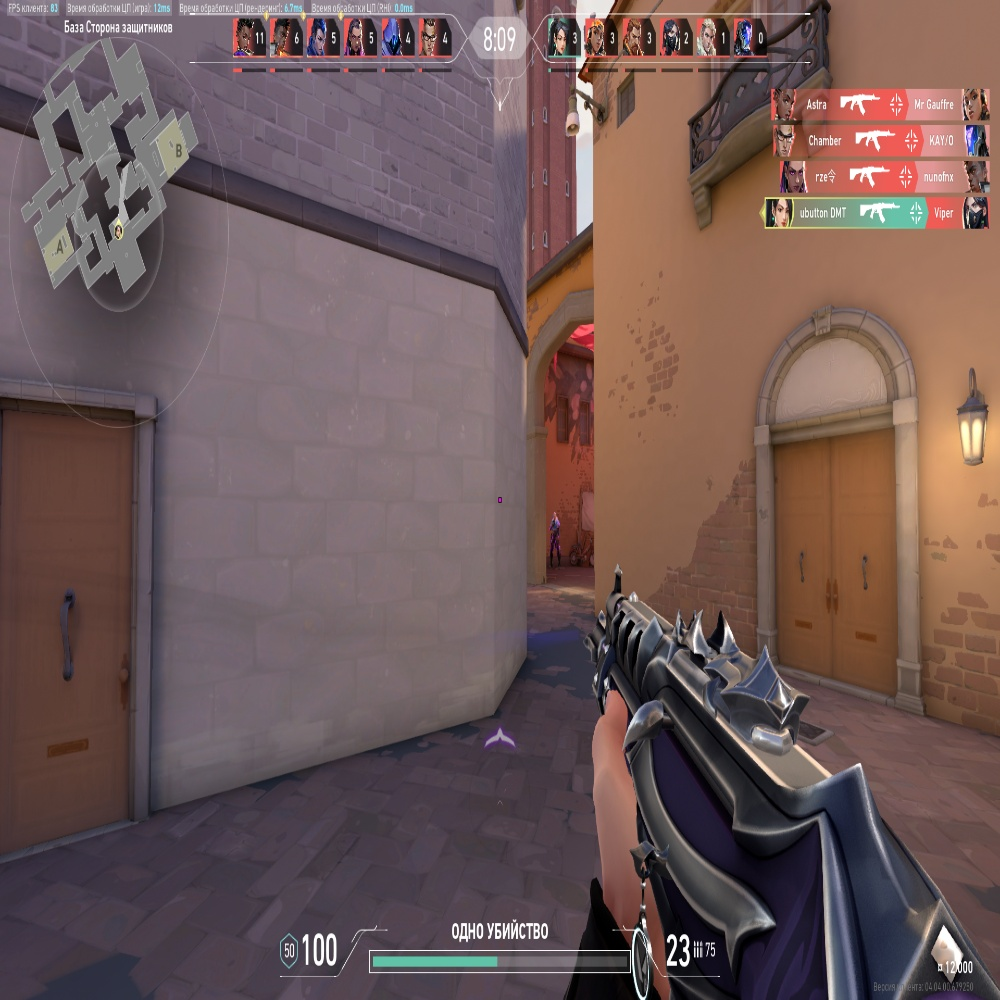body: (551, 522, 559, 539)
head: (553, 513, 557, 520)
